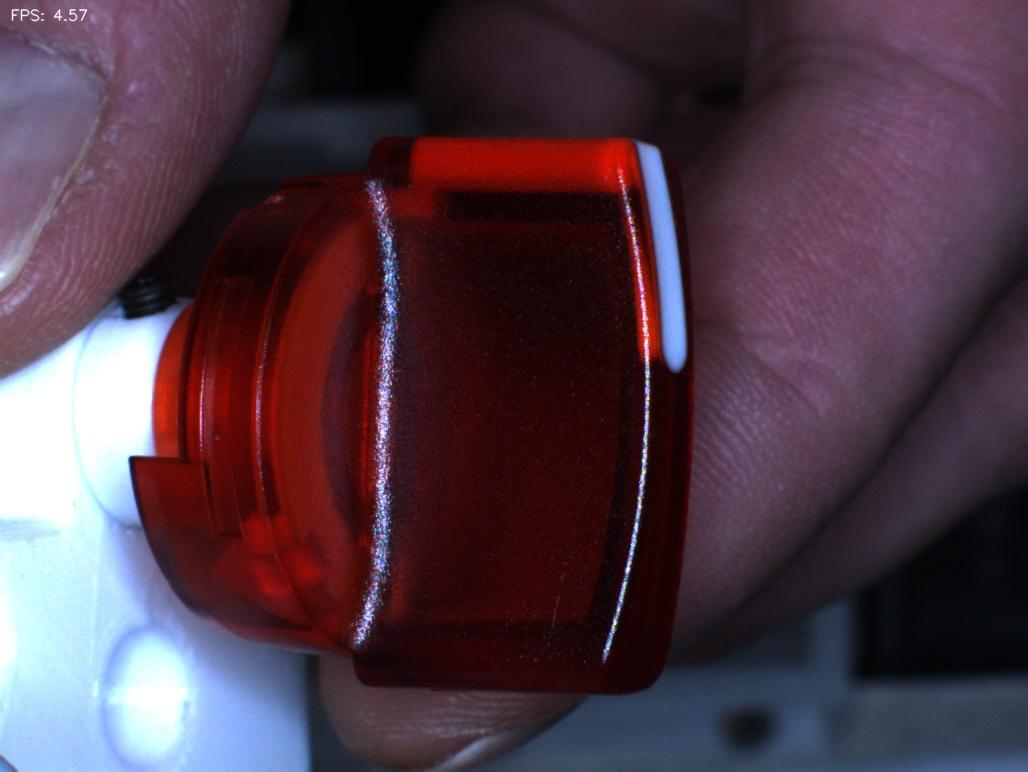Givrage: (506, 533, 602, 666)
